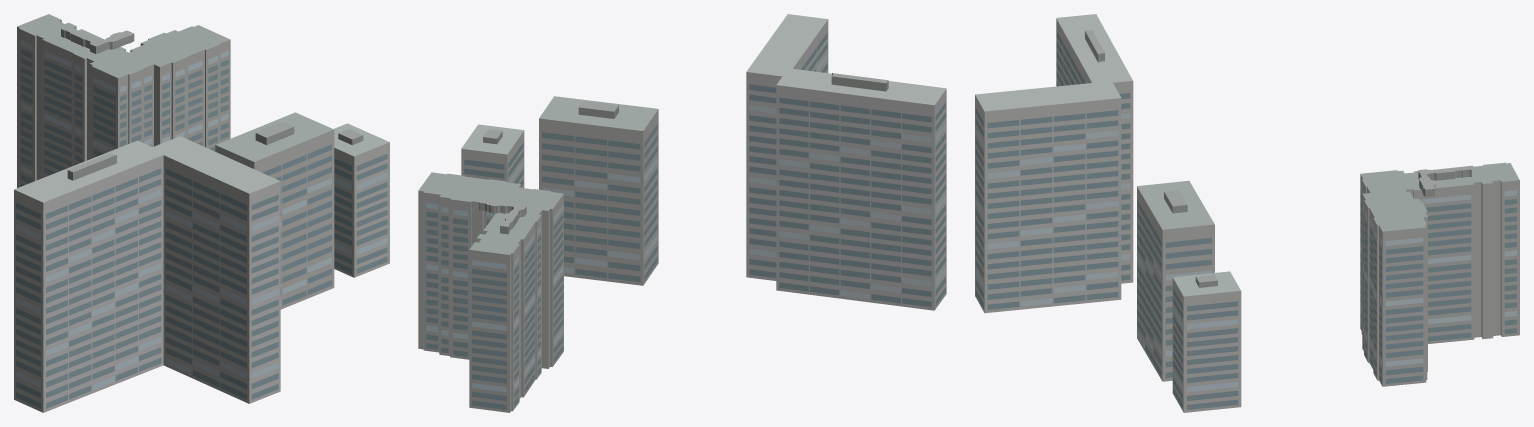
The model's file is apt-a10023939.glb.
3 renders of one model, left to right at view 1: azimuth 30°, elevation 25°; view 2: azimuth 150°, elevation 25°; view 3: azimuth 270°, elevation 25°, orthographic. The views are drawn at different scales.
Parts seen in each view (by area): view 1: apt-a10023939; view 2: apt-a10023939; view 3: apt-a10023939.
Boxes of the visible parts, x1,y1,x2,y2 form: apt-a10023939: (14, 14, 389, 412); apt-a10023939: (418, 14, 946, 412); apt-a10023939: (975, 14, 1519, 412).
Size of the model in its own units: 125 by 62 by 146.
